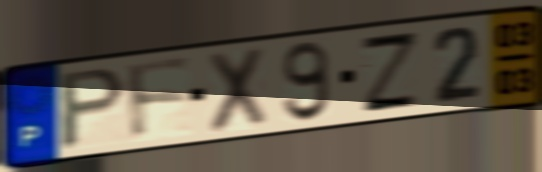2: (430, 24, 484, 105)
9: (279, 39, 333, 126)
F: (123, 55, 195, 145)
P: (57, 64, 129, 154)
X: (205, 43, 270, 137)
Z: (357, 30, 423, 115)
